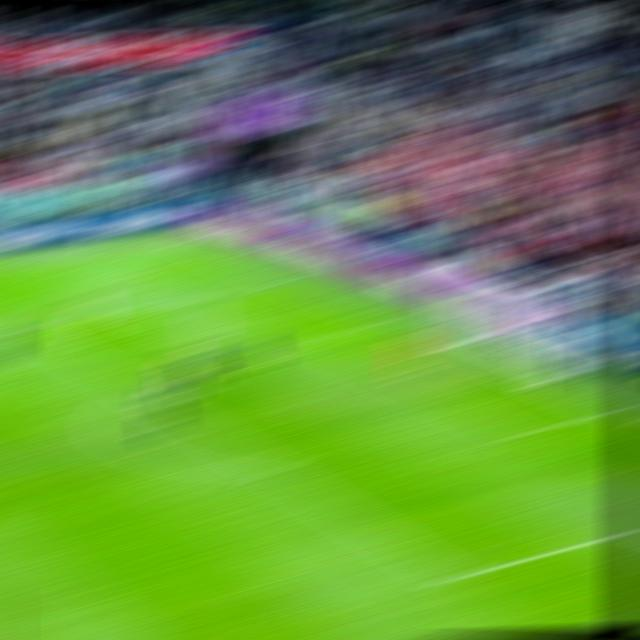bigarea_bottom_inner: (431, 564, 475, 589)
bigarea_top_inner: (7, 317, 44, 335)
bigarea_top_outter: (270, 275, 305, 287)
bottom_arc_area_intersection: (254, 461, 291, 480)
corner: (167, 234, 204, 244)
smallarea_bottom_inner: (496, 422, 536, 444)
smallarea_bottom_outter: (596, 401, 633, 420)
smallarea_top_inner: (289, 332, 325, 347)
smallarea_top_outter: (370, 315, 407, 328)
top_arc_area_intersection: (108, 377, 145, 392)
